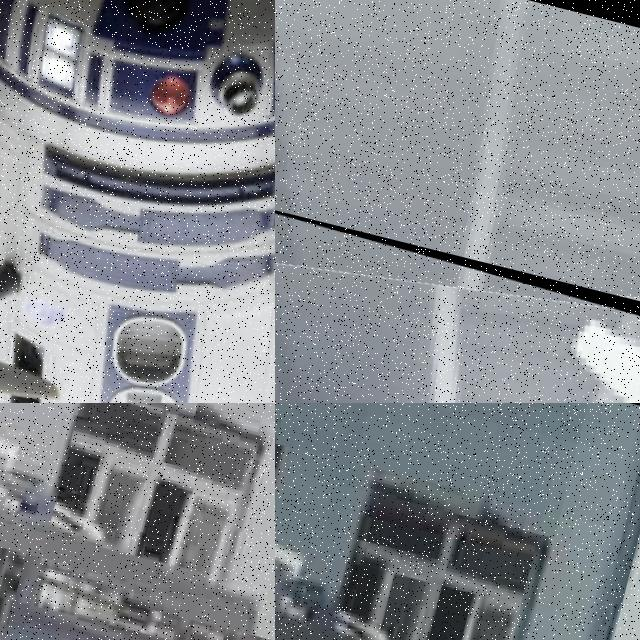drone: (0, 0, 275, 403), (275, 183, 640, 403)
